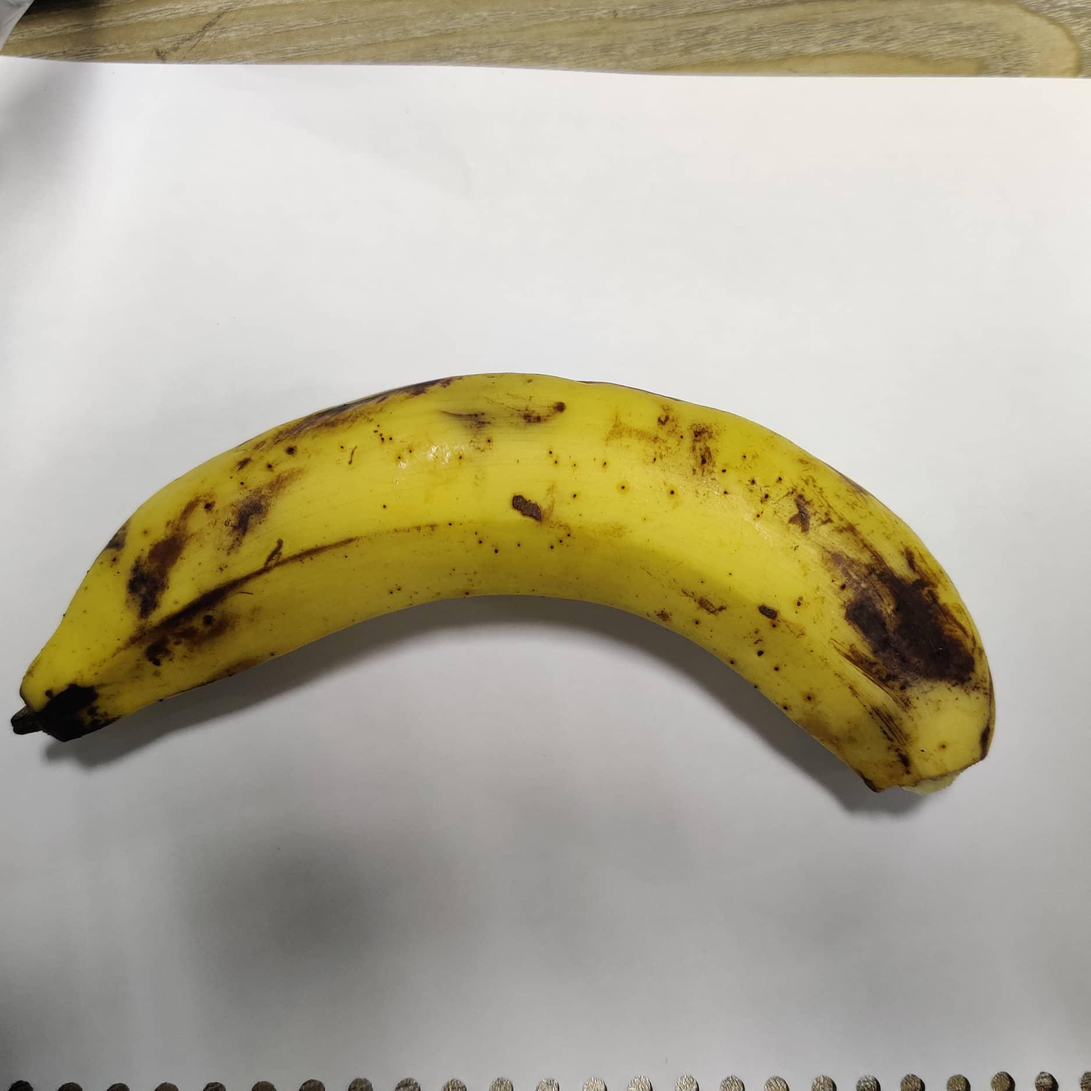Banana Ripe: (11, 365, 1068, 921)
